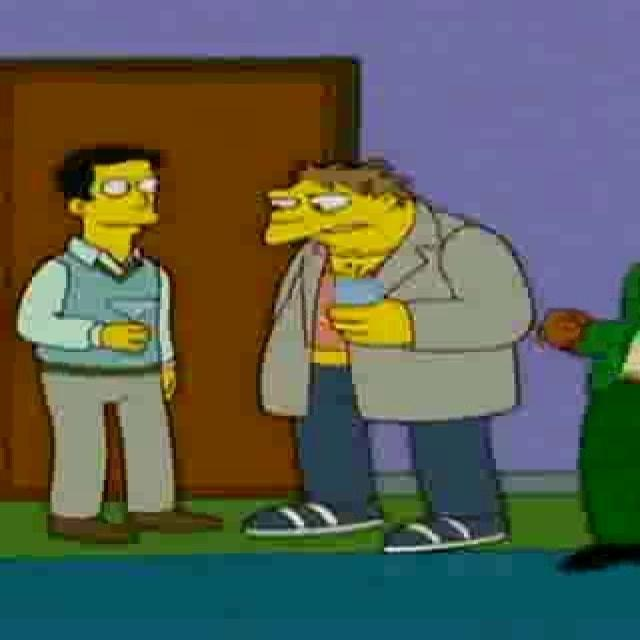Barney Gumble: (259, 158, 425, 261)
